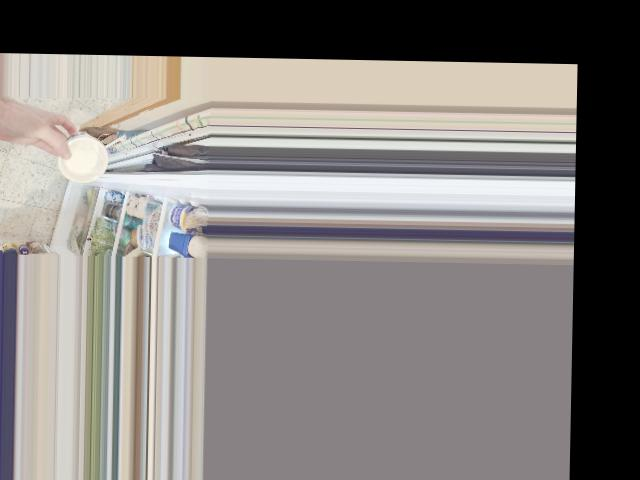cotage: (53, 128, 108, 178)
